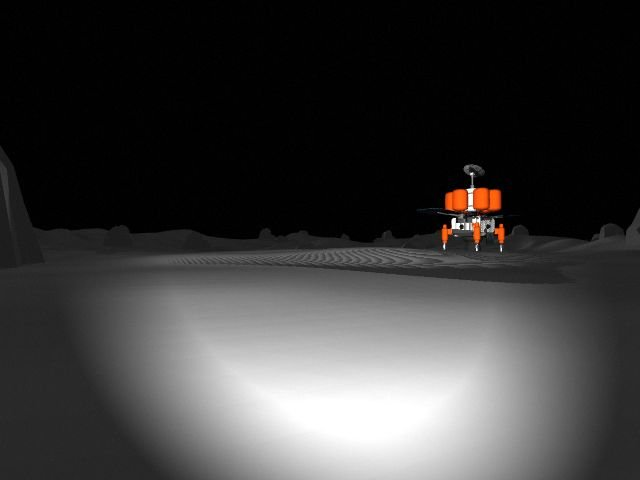homebase: (414, 163, 525, 256)
